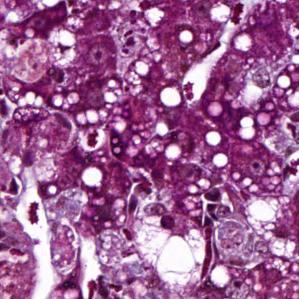ballooning: (129, 210, 210, 291)
